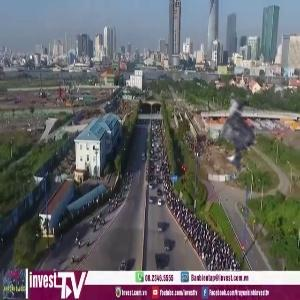drone: (191, 86, 287, 182)
